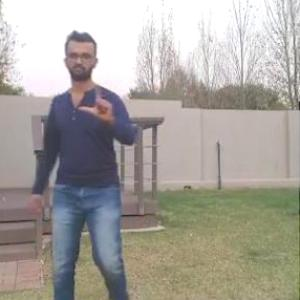land_hand: (76, 78, 117, 127)
